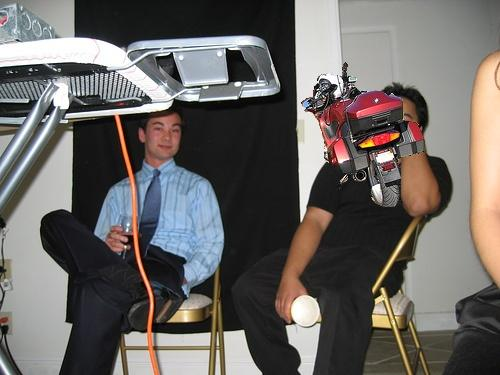tampered: (302, 63, 425, 207)
